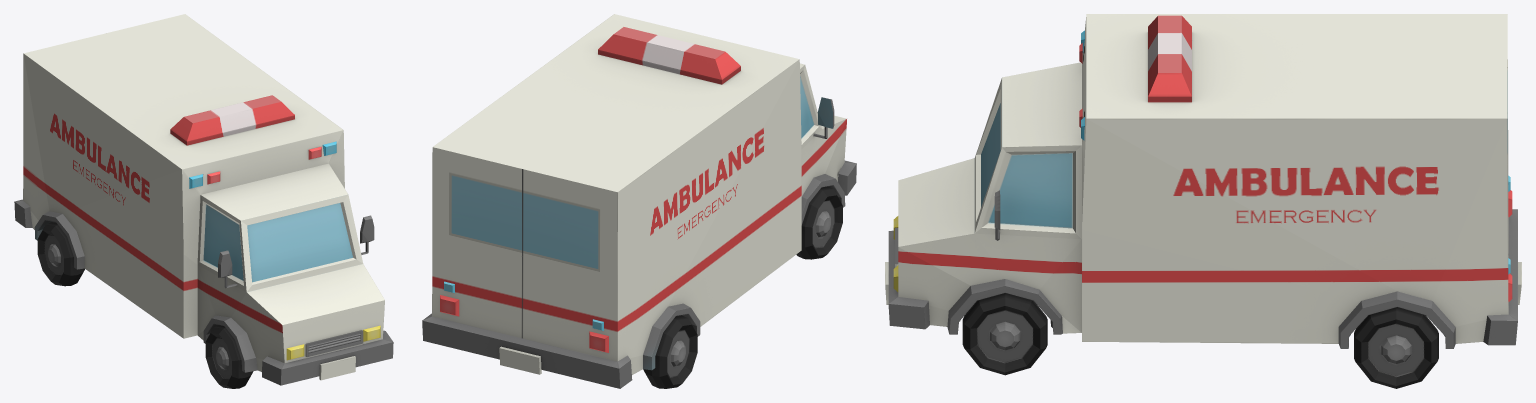
Rendered from Ambulance.obj.
3 views of the same model, side by side, from view 1: azimuth 30°, elevation 25°; view 2: azimuth 150°, elevation 25°; view 3: azimuth 270°, elevation 25° (orthographic). The views are drawn at different scales.
Visible parts, largest first — view 1: Ambulance_mesh; view 2: Ambulance_mesh; view 3: Ambulance_mesh.
Boxes of the visible parts, left/top/right/bottom form: Ambulance_mesh: left=14, top=14, right=393, bottom=388; Ambulance_mesh: left=422, top=14, right=856, bottom=388; Ambulance_mesh: left=885, top=14, right=1521, bottom=388.
Bounding box in the file's own units: 9.73 × 10.53 × 21.12.
1 material, 1 textured.
